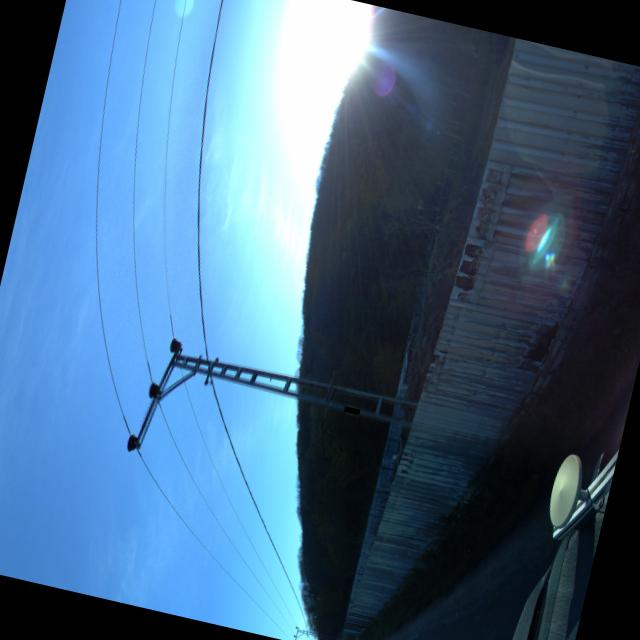Utility Pole Information Plate: (344, 405, 360, 413)
